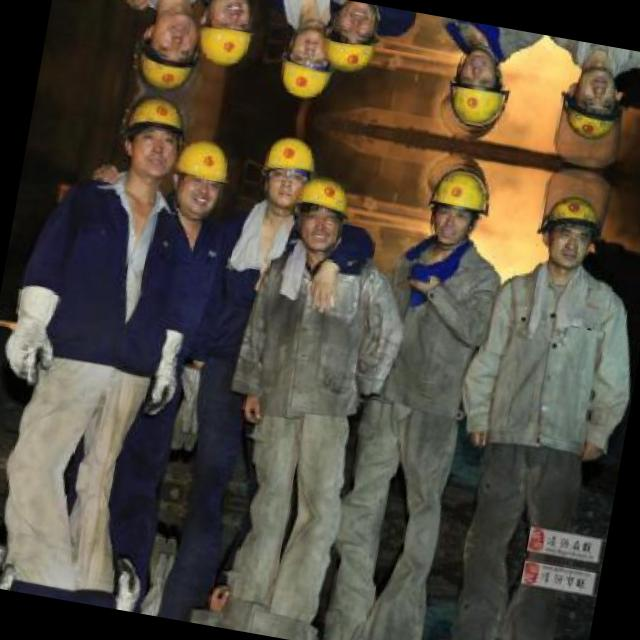helmet: (530, 168, 625, 280), (550, 55, 640, 167), (106, 89, 193, 197), (432, 38, 516, 144), (413, 148, 498, 252), (124, 0, 211, 94), (284, 165, 358, 250), (312, 0, 388, 81), (272, 20, 340, 105), (253, 126, 320, 212), (167, 130, 235, 212), (191, 0, 259, 73)
